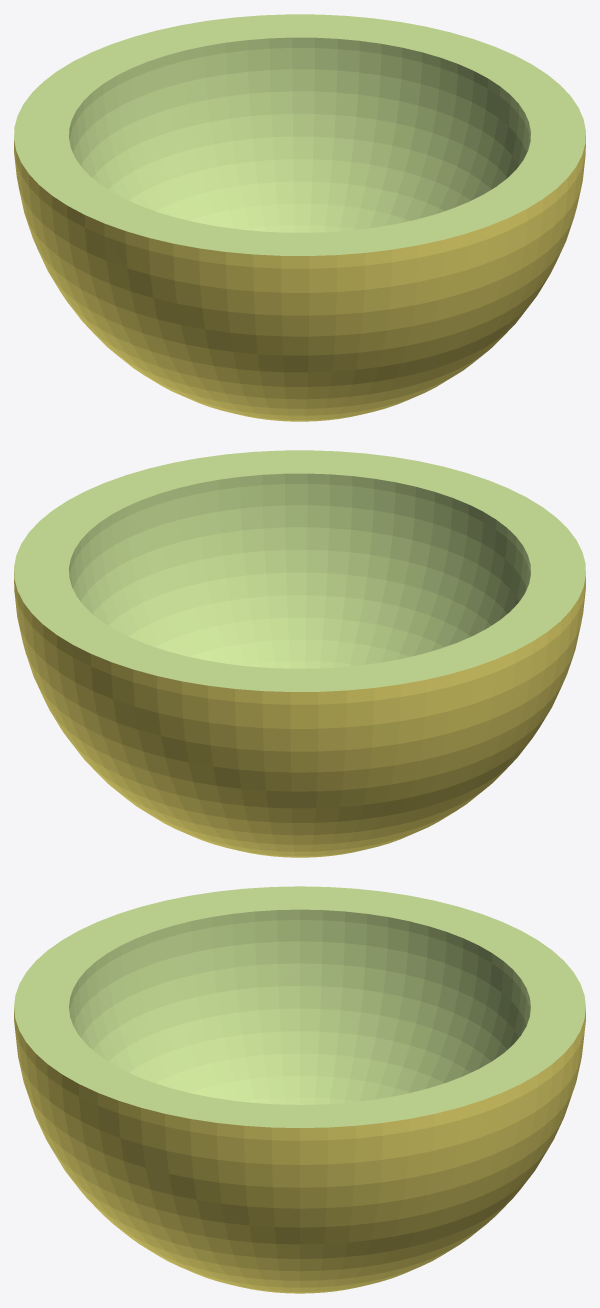
The model's file is bowl.glb.
3 views of the same model, one above another, from view 1: azimuth 30°, elevation 25°; view 2: azimuth 150°, elevation 25°; view 3: azimuth 270°, elevation 25° (orthographic).
Size of the model in its own units: 25.97 by 12.98 by 25.97.
